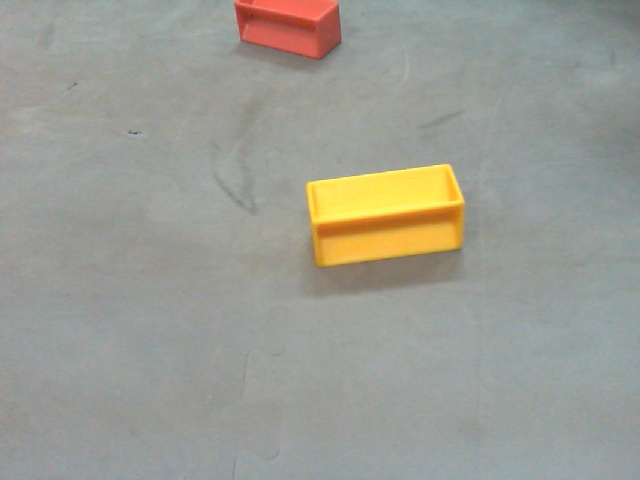RedSample: (229, 1, 344, 66)
YellowSample: (304, 164, 464, 267)
